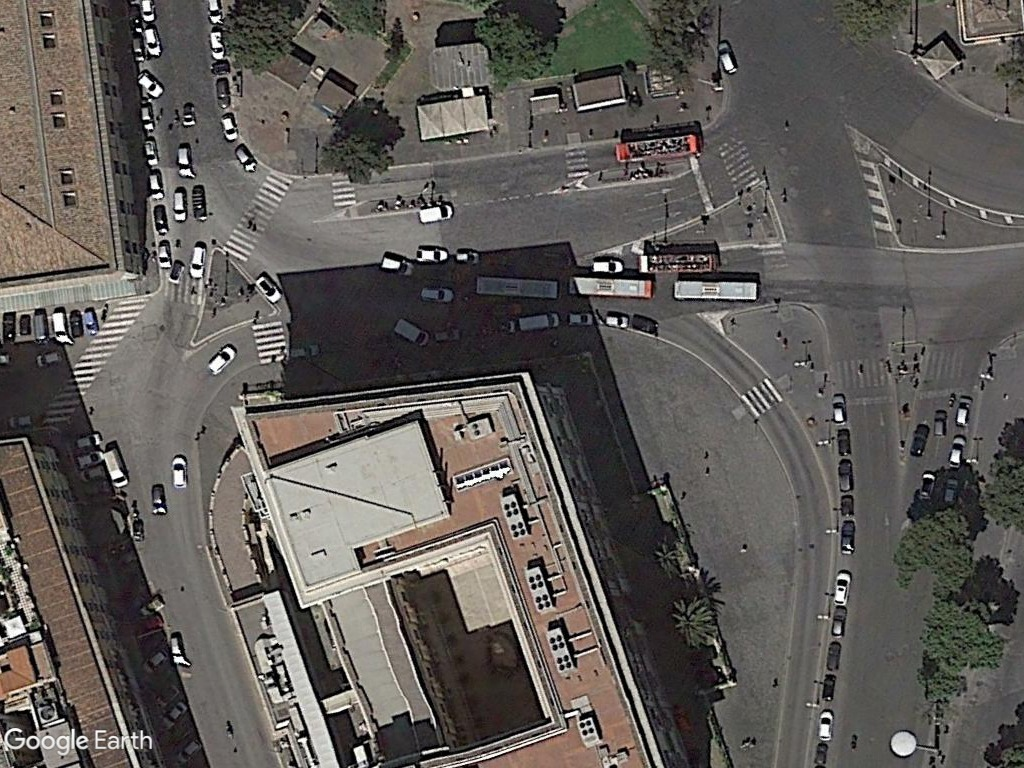bus: (470, 270, 565, 301), (666, 275, 765, 304), (565, 273, 660, 301)
car: (163, 451, 194, 494), (202, 342, 238, 379), (250, 270, 286, 306), (183, 239, 211, 283), (714, 37, 742, 79), (230, 141, 260, 179), (906, 419, 933, 461), (812, 701, 837, 746), (133, 68, 167, 101), (827, 567, 854, 608), (146, 481, 173, 521), (952, 390, 976, 434), (833, 455, 860, 494), (137, 27, 167, 62), (152, 235, 177, 277), (166, 632, 192, 672), (140, 170, 170, 204), (165, 182, 189, 223), (946, 431, 971, 470), (211, 74, 235, 113), (413, 243, 453, 266), (173, 143, 196, 183), (929, 404, 952, 444), (587, 254, 630, 275), (827, 390, 850, 429), (419, 283, 459, 305), (81, 304, 104, 342), (133, 105, 160, 137), (216, 114, 242, 147), (206, 29, 229, 64), (599, 309, 634, 331), (140, 132, 162, 166), (827, 600, 846, 639), (817, 672, 840, 704), (565, 309, 601, 329), (834, 421, 853, 458), (838, 520, 856, 558)
other: (189, 183, 212, 225)
van: (389, 316, 435, 350), (100, 447, 133, 492), (374, 251, 419, 281), (515, 310, 566, 333), (47, 306, 70, 348), (415, 204, 457, 225)
